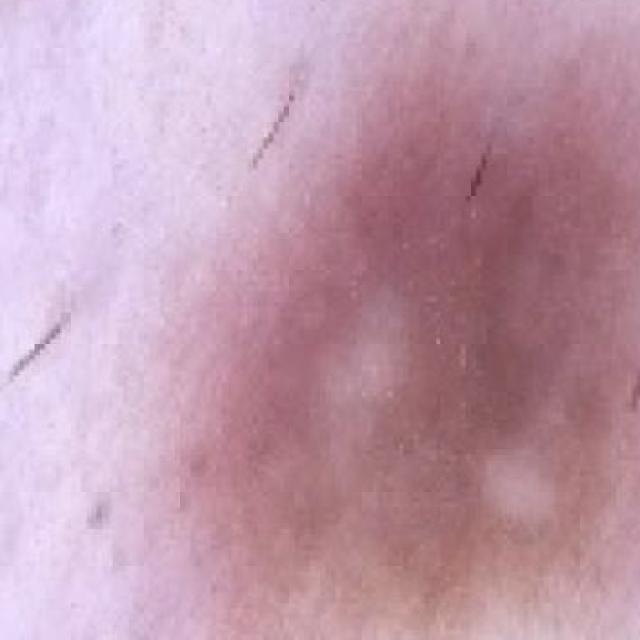DF: (125, 0, 640, 640)
